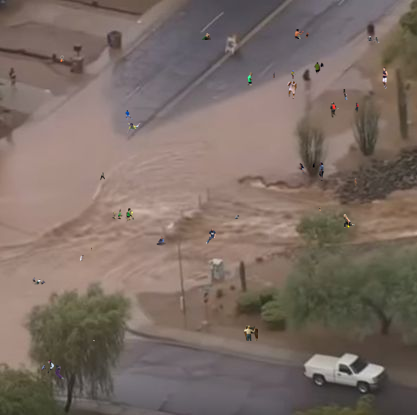Human: (47, 359, 69, 382), (299, 161, 324, 181), (227, 325, 258, 341), (112, 208, 144, 223), (330, 102, 359, 118), (366, 20, 376, 43), (125, 121, 141, 134), (286, 81, 297, 99), (8, 67, 17, 89), (292, 29, 309, 39), (343, 214, 355, 228), (206, 228, 216, 244), (313, 62, 324, 76), (382, 67, 388, 89), (32, 277, 46, 285), (156, 236, 166, 246), (367, 36, 380, 43), (247, 72, 253, 87), (125, 110, 133, 120), (202, 33, 211, 40), (343, 89, 348, 100), (100, 172, 105, 181), (291, 70, 296, 79), (41, 365, 46, 371), (80, 255, 85, 261), (60, 55, 64, 62), (354, 178, 357, 186), (235, 215, 240, 219), (273, 72, 275, 78), (319, 207, 321, 211), (91, 246, 92, 251), (93, 340, 95, 342)
